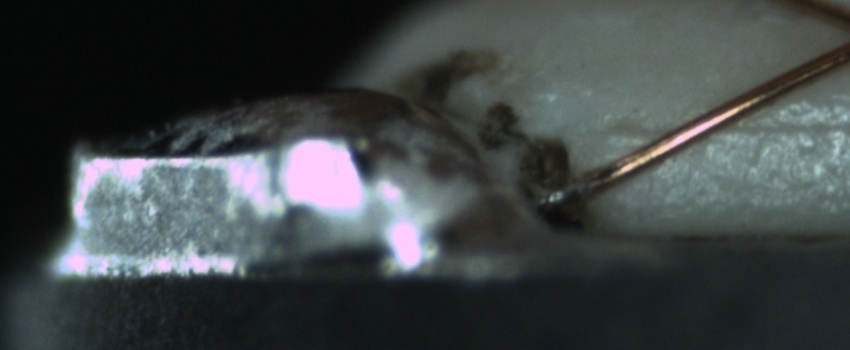DL: (614, 100, 850, 155)
TS: (536, 173, 591, 210)
